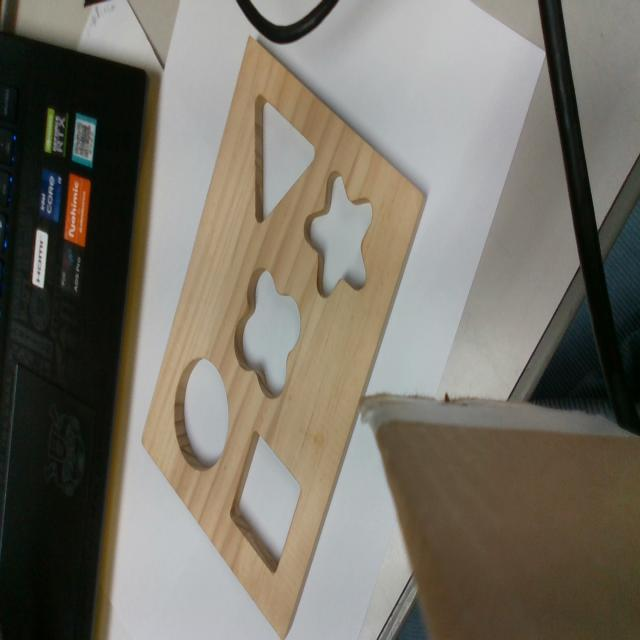circle: (175, 356, 228, 468)
flower: (234, 268, 300, 397)
square: (229, 428, 302, 574)
star: (303, 170, 374, 291)
triangle: (253, 89, 316, 226)
